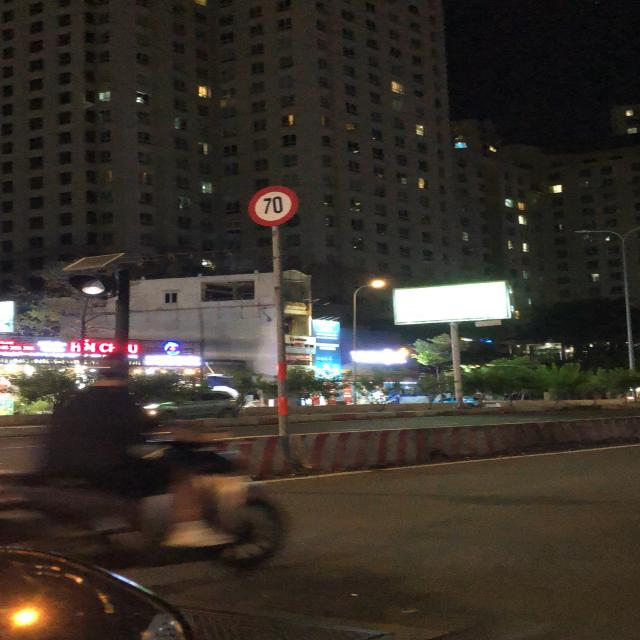Bien bao toc do toi da cho phep: (242, 185, 303, 232)
